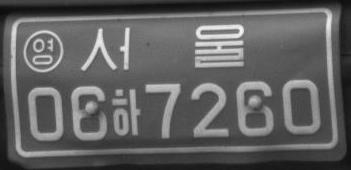0: (281, 77, 321, 136), (27, 86, 64, 142)
2: (190, 81, 229, 138)
6: (235, 80, 274, 137), (70, 84, 107, 140)
7: (145, 82, 181, 139)
서울_D: (80, 23, 245, 72)
영: (22, 29, 65, 73)
하: (111, 88, 140, 137)
